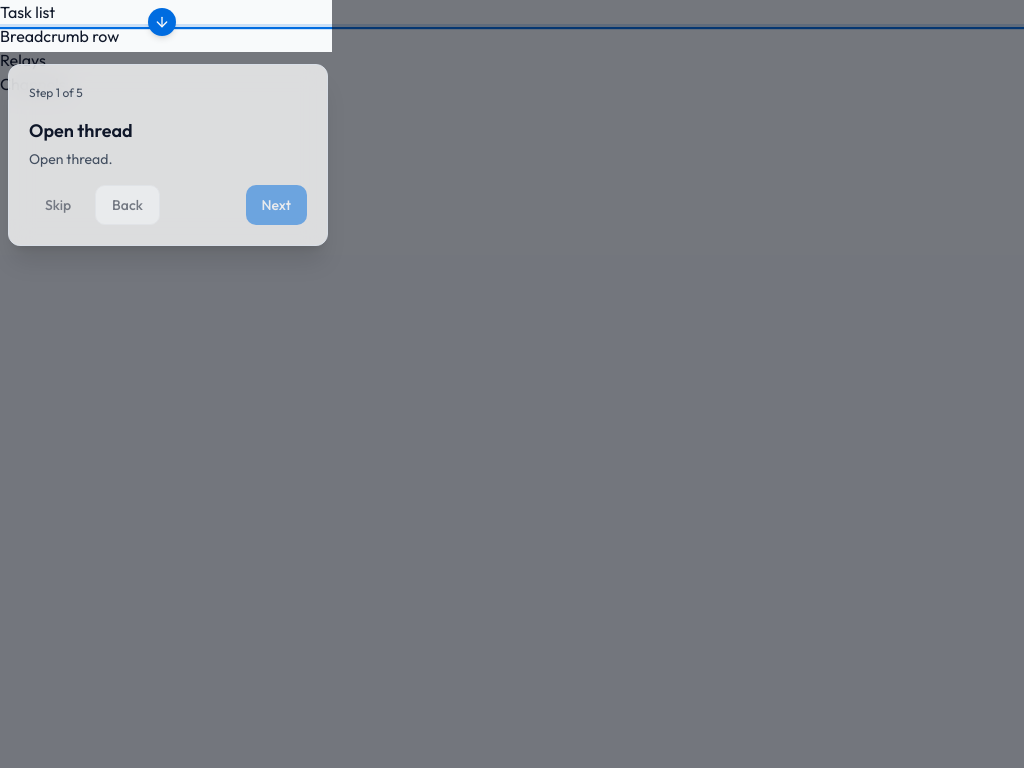
OnboardingGuide breadcrumb transitions › does not auto-skip channels step after breadcrumb flow
Click the text "Task list" at (512, 12), box top-left (0, 0), bottom-right (1023, 24)
Wait 300 ms
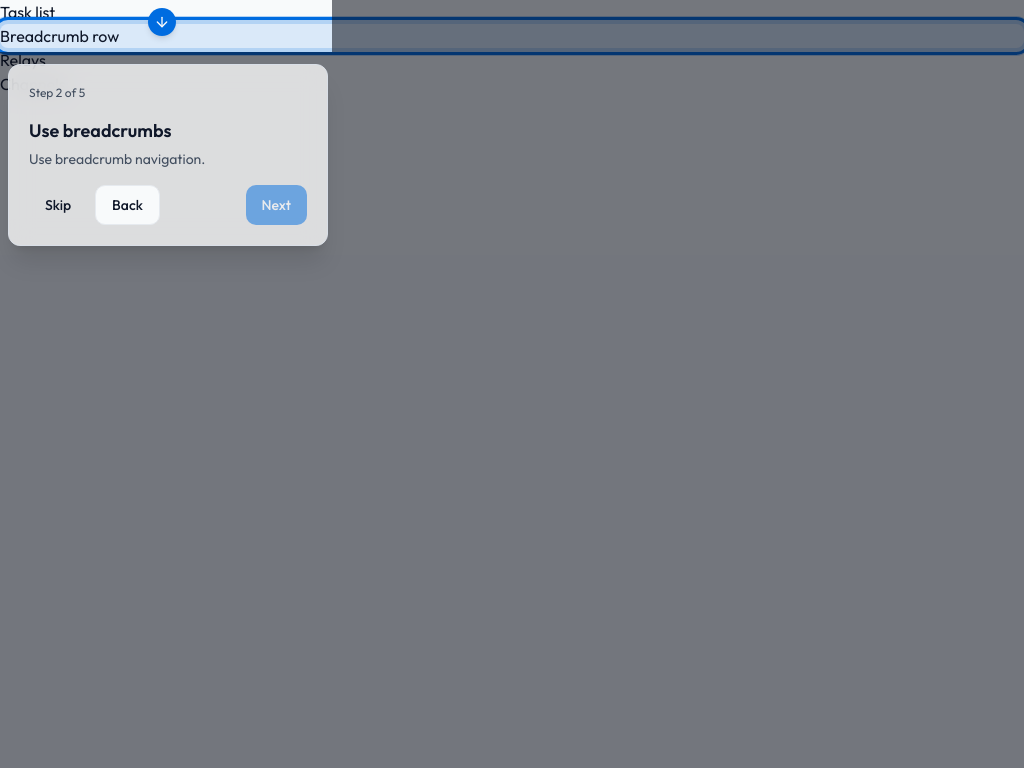
Expected: the heading "Use breadcrumbs" is shown, top-left (29, 119), bottom-right (172, 142)
Click the text "Breadcrumb row" at (512, 36), box top-left (0, 24), bottom-right (1023, 48)
Wait 300 ms
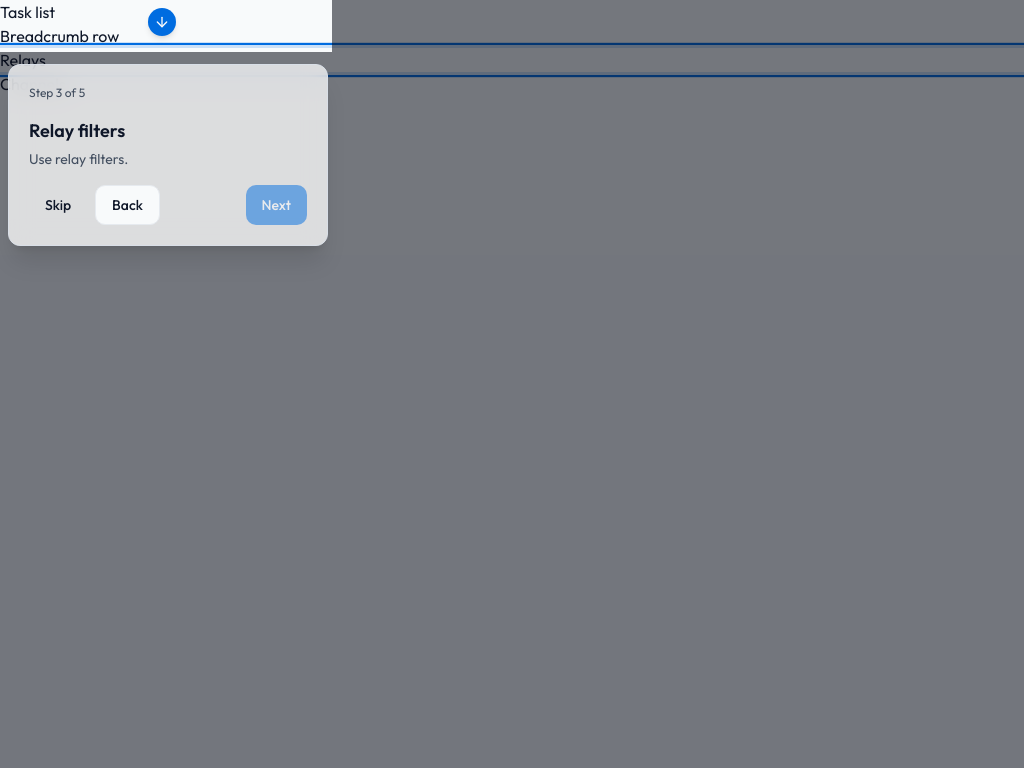
Expected: the heading "Relay filters" is shown, top-left (29, 119), bottom-right (125, 142)
Click the text "Relays" at (512, 60), box top-left (0, 48), bottom-right (1023, 72)
Wait 1100 ms
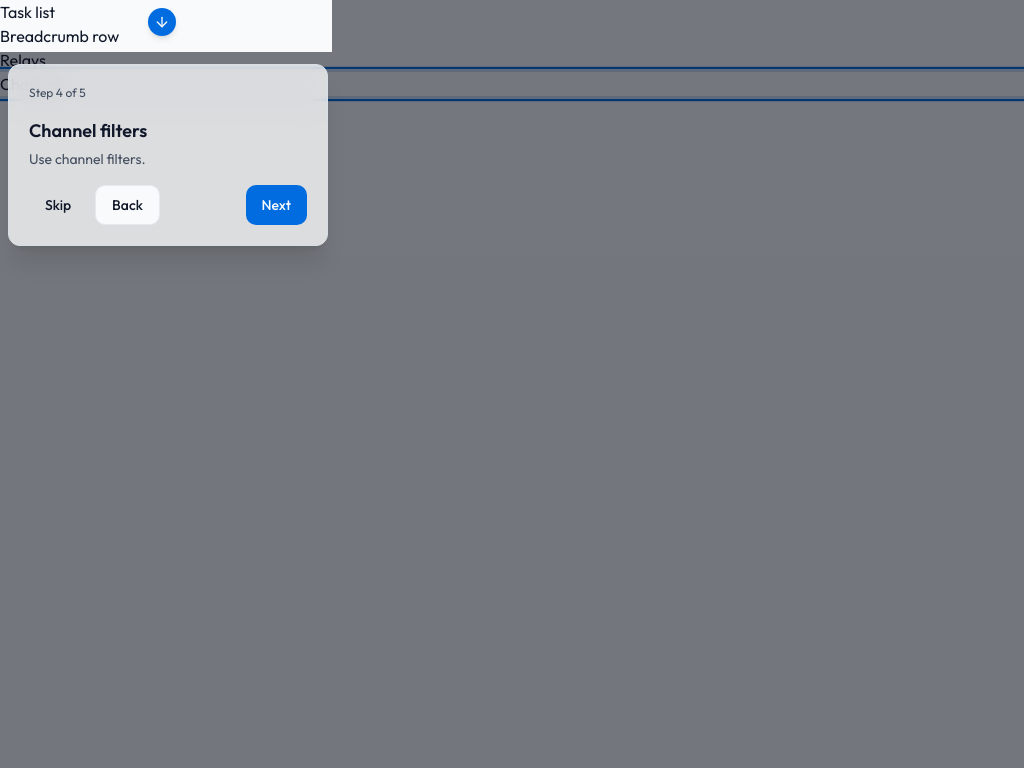
Expected: the heading "Channel filters" is shown, top-left (29, 119), bottom-right (147, 142)
